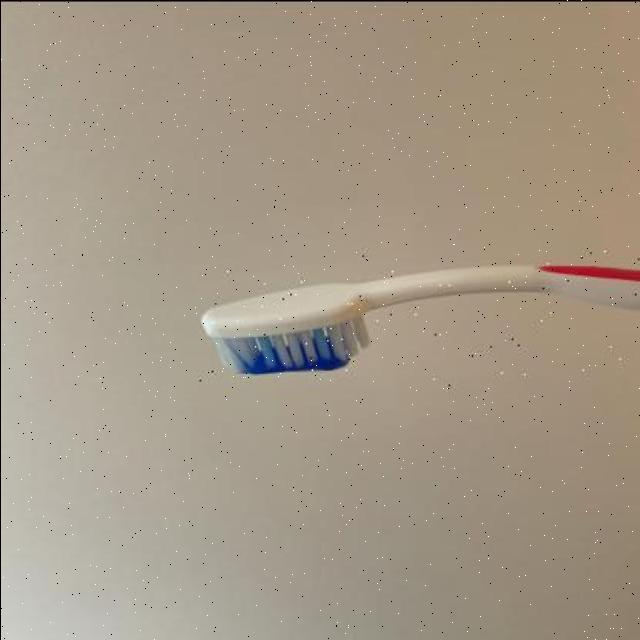toothbrush: (188, 248, 640, 384)
